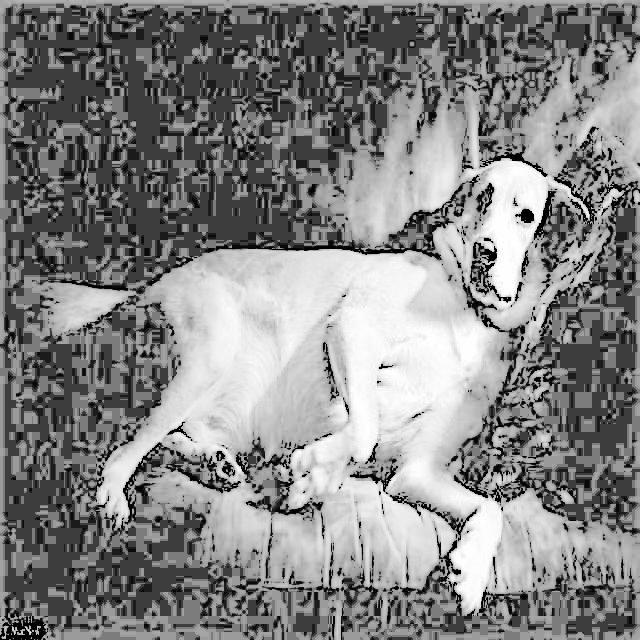Dog: (28, 150, 596, 607)
